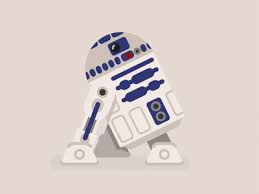r2d2: (64, 32, 184, 164)
